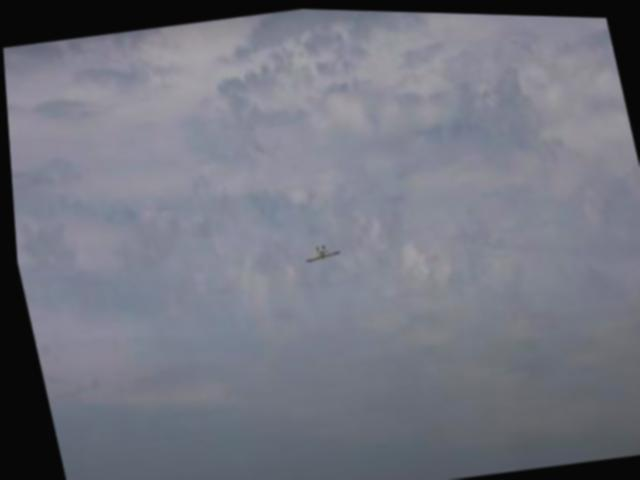uav: (294, 234, 344, 272)
